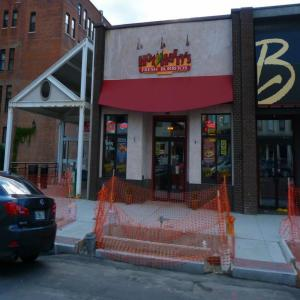Vehicle-registration-plate: (36, 210, 47, 222)
